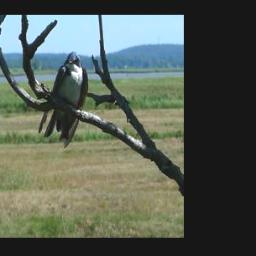Swallow: (36, 49, 91, 150)
